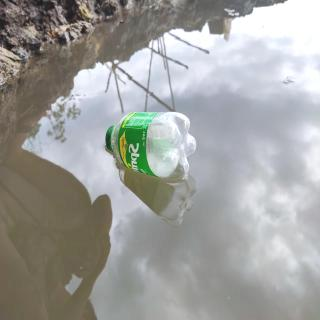bottle: (104, 108, 198, 184)
